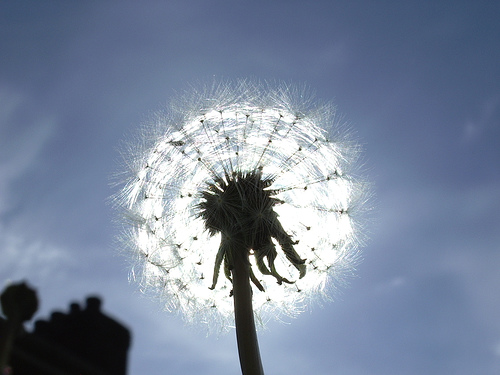dandelion: (101, 79, 380, 321)
